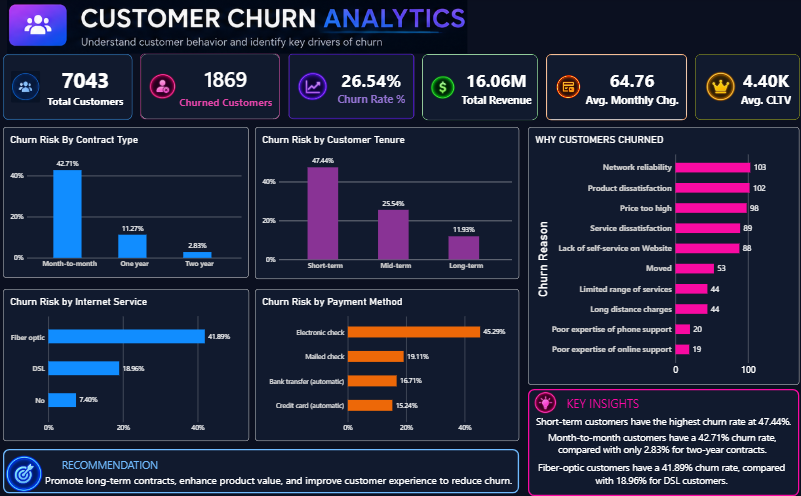

This screenshot's page, from the dashboard's own definition file:
{"tool":"powerbi","page":{"name":"Page 1","canvas":[1920,1200],"ordinal":0},"visuals":[{"type":"cardVisual","title":"Total Customers","fields":{"Data":["Customer_Churn.Total Customers"]},"box":[14.4,132,308.9,157.7],"z":0},{"type":"cardVisual","title":"Total Customers","fields":{"Data":["Customer_Churn.Churn Rate %"]},"box":[693.6,129.6,302.4,158.4],"z":1000},{"type":"cardVisual","title":"Total Customers","fields":{"Data":["Customer_Churn.Total Revenue"]},"box":[1012.8,132,276,158.4],"z":2000},{"type":"cardVisual","title":"Total Customers","fields":{"Data":["Customer_Churn.Average Monthly Charges"]},"box":[1308,132,336,158.4],"z":3000},{"type":"cardVisual","title":"Total Customers","fields":{"Data":["Customer_Churn.Average CLTV"]},"box":[1660.8,132,250.6,157.7],"z":4000},{"type":"clusteredColumnChart","title":"Churn Risk By Contract Type","fields":{"Category":["Customer_Churn.Contract"],"Y":["Customer_Churn.Churn Rate %"]},"box":[14.4,304.8,585.4,358.6],"z":5000},{"type":"columnChart","title":"Churn Risk by Customer Tenure","fields":{"Category":["Customer_Churn.Customer Segmentation"],"Y":["Customer_Churn.Churn Rate %"]},"box":[614.4,304.8,628.8,362.4],"z":6000},{"type":"clusteredBarChart","title":"Churn Risk by Internet Service","fields":{"Y":["Customer_Churn.Churn Rate %"],"Category":["Customer_Churn.Internet Service"]},"box":[14.4,691.2,585.6,362.4],"z":7000},{"type":"clusteredBarChart","title":"Churn Risk by Payment Method","fields":{"Category":["Customer_Churn.Payment Method"],"Y":["Customer_Churn.Churn Rate %"]},"box":[614.4,691.2,628.8,362.4],"z":8000},{"type":"clusteredBarChart","title":"WHY CUSTOMERS CHURNED","fields":{"Category":["Customer_Churn.Churn Reason"],"Y":["Customer_Churn.Churned Customers"]},"box":[1264.8,304.8,645.6,614.4],"z":9000},{"type":"shape","box":[1264.8,928.8,645.8,254.9],"z":10000},{"type":"shape","box":[1344,940.8,198.7,43.2],"z":11000},{"type":"shape","box":[1284,984,613.4,47.5],"z":12000},{"type":"shape","box":[1274.4,1020,628.8,69.6],"z":13000},{"type":"shape","box":[1286.4,1089.6,602.6,77.8],"z":14000},{"type":"shape","box":[14.4,1070.4,1228.8,105.6],"z":15000},{"type":"shape","box":[115.2,1084.8,308.9,45.4],"z":16000},{"type":"shape","box":[115.2,1123.2,1118.9,41],"z":17000},{"type":"cardVisual","fields":{"Data":["Customer_Churn.Churned Customers"]},"box":[340.8,129.6,333.6,158.4],"z":18000},{"type":"image","box":[1279.2,921.6,54,79.9],"z":19000},{"type":"image","box":[14.4,1082.4,101.5,95],"z":20000},{"type":"image","box":[0,0,1144.8,129.6],"z":21000}]}

Visuals, with their boxes in screenshot pixels (x1, y1, x2, y2), scaled from the page's 1920x1200 canvas onto the 801x496 screenshot:
"Total Customers" cardVisual: select_region(6, 55, 135, 120)
"Total Customers" cardVisual: select_region(289, 54, 416, 119)
"Total Customers" cardVisual: select_region(423, 55, 538, 120)
"Total Customers" cardVisual: select_region(546, 55, 686, 120)
"Total Customers" cardVisual: select_region(693, 55, 797, 120)
"Churn Risk By Contract Type" clusteredColumnChart: select_region(6, 126, 250, 274)
"Churn Risk by Customer Tenure" columnChart: select_region(256, 126, 519, 276)
"Churn Risk by Internet Service" clusteredBarChart: select_region(6, 286, 250, 435)
"Churn Risk by Payment Method" clusteredBarChart: select_region(256, 286, 519, 435)
"WHY CUSTOMERS CHURNED" clusteredBarChart: select_region(528, 126, 797, 380)
shape: select_region(528, 384, 797, 489)
shape: select_region(561, 389, 644, 407)
shape: select_region(536, 407, 792, 426)
shape: select_region(532, 422, 794, 450)
shape: select_region(537, 450, 788, 483)
shape: select_region(6, 442, 519, 486)
shape: select_region(48, 448, 177, 467)
shape: select_region(48, 464, 515, 481)
cardVisual - Customer_Churn.Churned Customers: select_region(142, 54, 281, 119)
image: select_region(534, 381, 556, 414)
image: select_region(6, 447, 48, 487)
image: select_region(0, 0, 478, 54)
